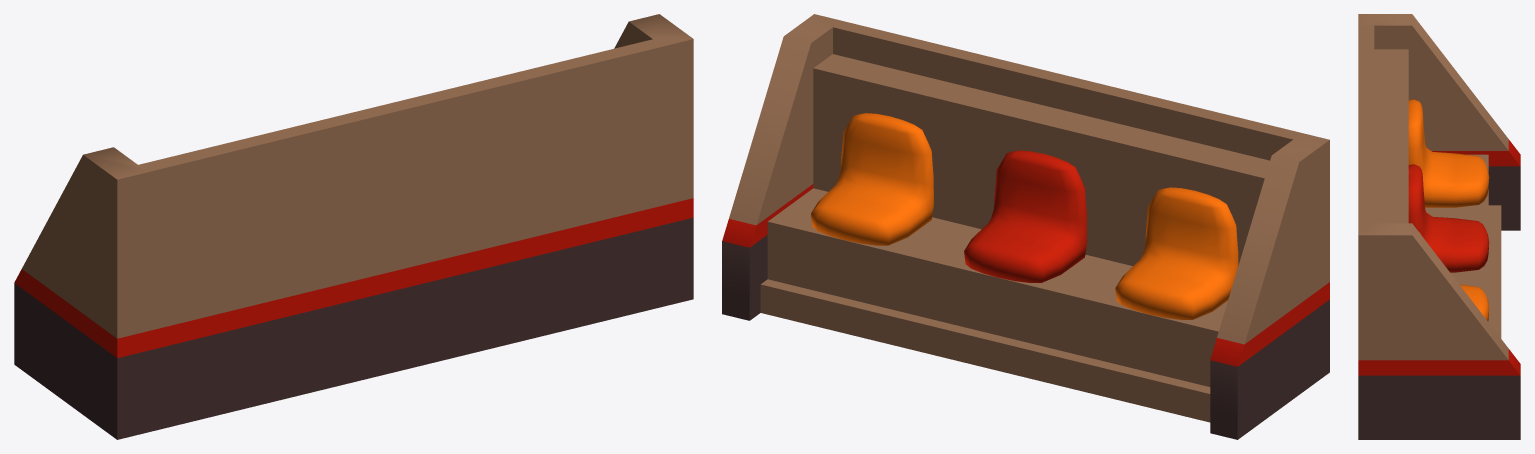
Rendered from Large Chair.fbx.
3 renders of one model, left to right at view 1: azimuth 30°, elevation 25°; view 2: azimuth 150°, elevation 25°; view 3: azimuth 270°, elevation 25°, orthographic. The views are drawn at different scales.
Visible parts, largest first — view 1: Cube.001; view 2: Cube.001; view 3: Cube.001.
Boxes of the visible parts, x1,y1,x2,y2 form: Cube.001: [14, 14, 693, 439]; Cube.001: [722, 14, 1329, 439]; Cube.001: [1358, 14, 1520, 439].
Bounding box in the file's own units: 406 × 126 × 175.
